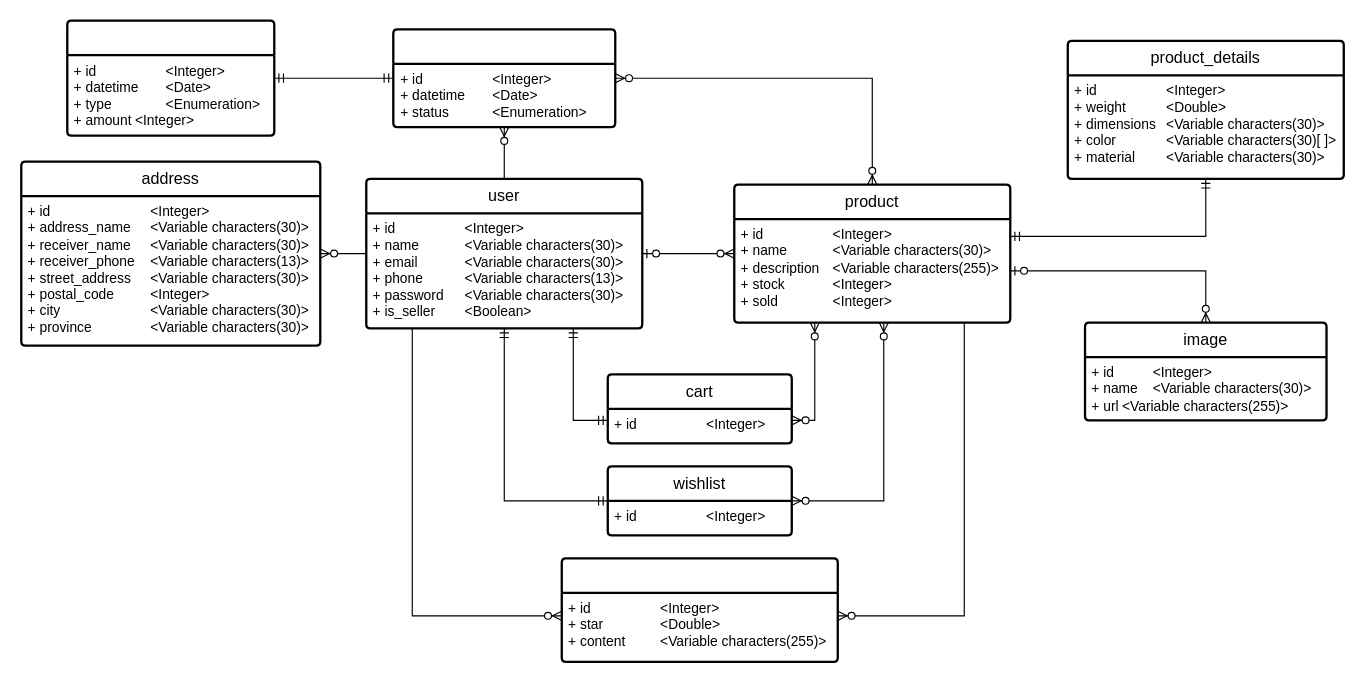
The diagram is 1364 pixels wide and 683 high, and some of its shapes have lost their labels. The shapes that lost their labels are listed below. From the top down, each one's box as (x1, y1, x2, y2) in pixels, then its label:
(66, 19, 275, 136): payment
(392, 28, 616, 128): transaction
(560, 557, 838, 662): review
